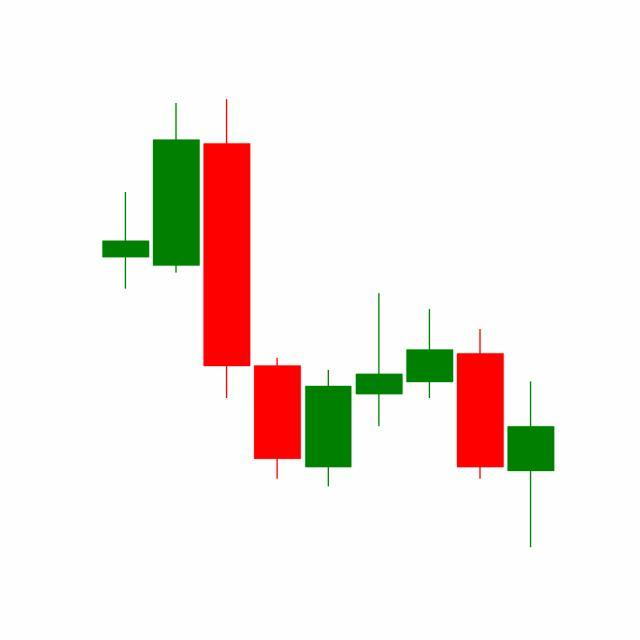Hikkake Pattern: (252, 292, 506, 490)
